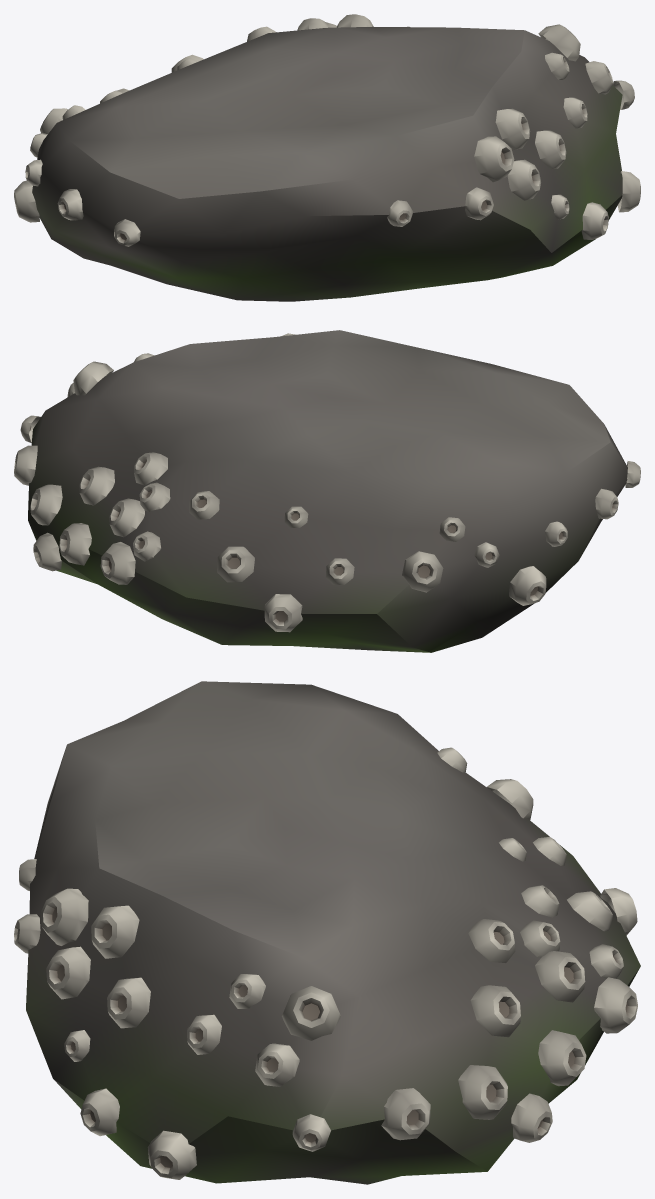
Rendered from Coast_Reef_A.fbx.
The picture shows the model from 3 angles, top to bottom: view 1: azimuth 30°, elevation 25°; view 2: azimuth 150°, elevation 25°; view 3: azimuth 270°, elevation 25°; orthographic projection. The views are drawn at different scales.
Parts seen in each view (by area): view 1: Coast_Reef_A; view 2: Coast_Reef_A; view 3: Coast_Reef_A.
Part boxes in pixels (box(x1,y1,x2,y2)): Coast_Reef_A: box(14, 14, 640, 301); Coast_Reef_A: box(14, 330, 640, 652); Coast_Reef_A: box(14, 681, 640, 1184).
Size of the model in its own units: 6.26 by 1.95 by 4.59.
